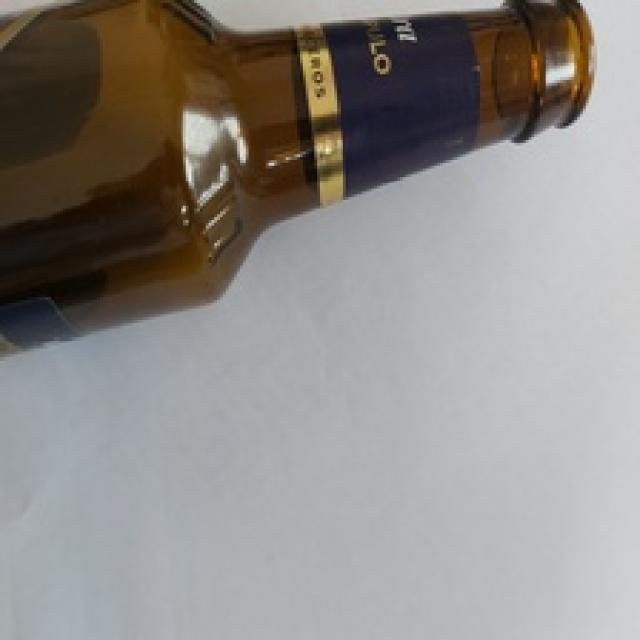Glass: (0, 0, 598, 354)
